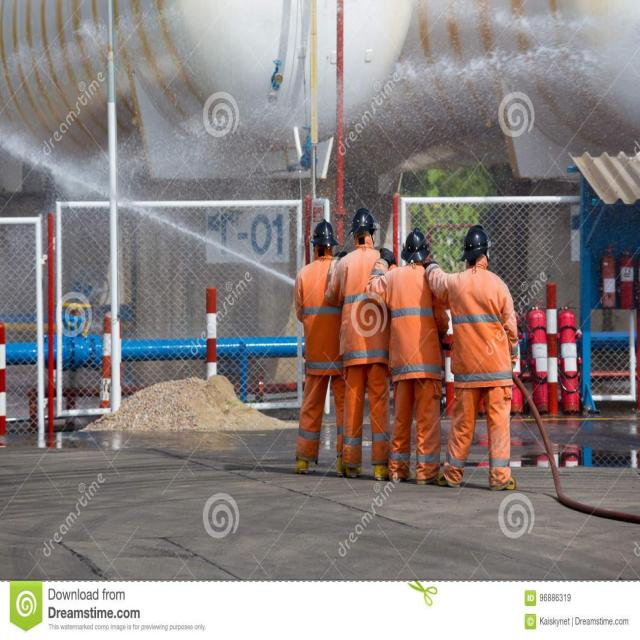fire_extinguisher: (560, 297, 580, 412), (504, 306, 522, 421), (529, 300, 546, 416), (595, 241, 615, 308), (615, 242, 634, 304)
